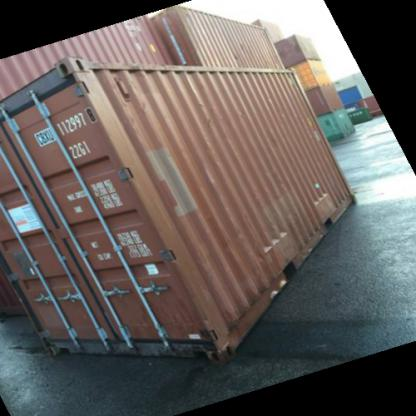Damage: (159, 327, 222, 359), (256, 228, 295, 256), (306, 184, 336, 207)
